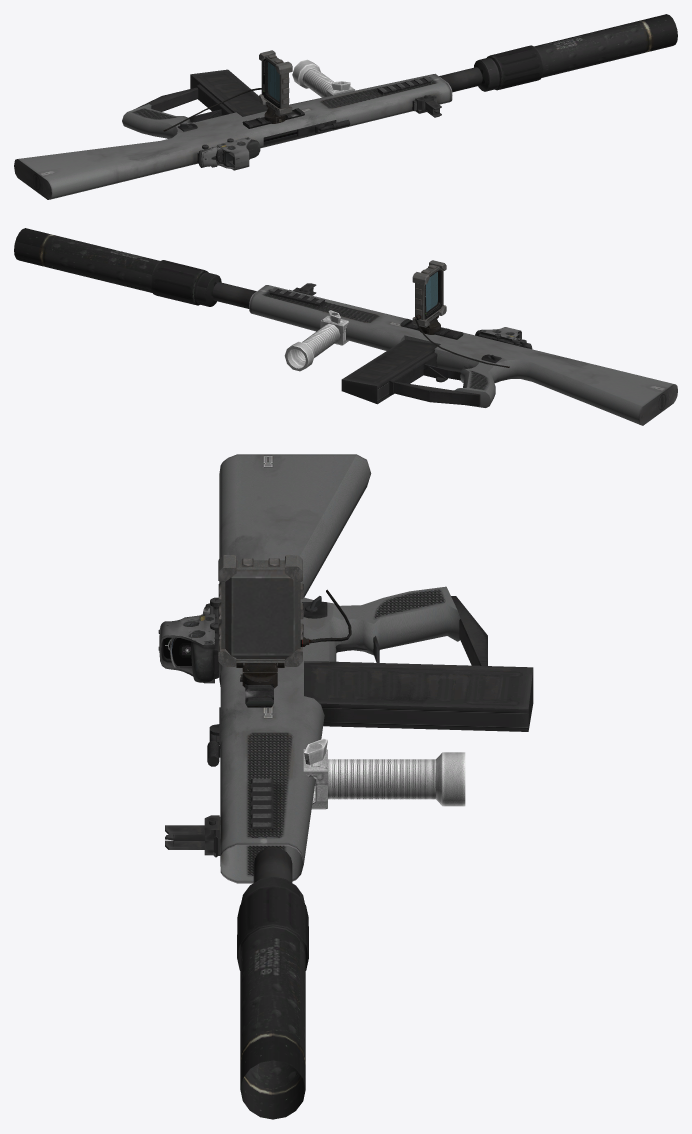
The model's file is viewmodel_aa12_arctic_LOD0.obj.
3 renders of one model, top to bottom at view 1: azimuth 30°, elevation 25°; view 2: azimuth 150°, elevation 25°; view 3: azimuth 270°, elevation 25°, orthographic. The views are drawn at different scales.
Parts seen in each view (by area): view 1: mtl_weapon_aa12_2_arctic, mtl_weapon_suppressor_b, mtl_weapon_motion_tracker_arctic, mtl_weapon_scar_h_foregrip, mtl_weapon_eotech_2_arctic, mtl_weapon_red_dot_sight_arctic, mtl_motion_tracker_screen; view 2: mtl_weapon_aa12_2_arctic, mtl_weapon_suppressor_b, mtl_weapon_motion_tracker_arctic, mtl_weapon_scar_h_foregrip, mtl_weapon_eotech_2_arctic, mtl_motion_tracker_screen; view 3: mtl_weapon_aa12_2_arctic, mtl_weapon_suppressor_b, mtl_weapon_motion_tracker_arctic, mtl_weapon_scar_h_foregrip, mtl_weapon_eotech_2_arctic.
Part boxes in pixels (left/top/right/bottom): mtl_weapon_aa12_2_arctic: left=14, top=67, right=482, bottom=199; mtl_weapon_suppressor_b: left=474, top=14, right=677, bottom=91; mtl_weapon_motion_tracker_arctic: left=163, top=50, right=304, bottom=131; mtl_weapon_scar_h_foregrip: left=292, top=59, right=355, bottom=97; mtl_weapon_eotech_2_arctic: left=217, top=137, right=260, bottom=170; mtl_weapon_red_dot_sight_arctic: left=198, top=138, right=233, bottom=167; mtl_motion_tracker_screen: left=268, top=62, right=279, bottom=101; mtl_weapon_aa12_2_arctic: left=212, top=282, right=677, bottom=425; mtl_weapon_suppressor_b: left=14, top=228, right=221, bottom=306; mtl_weapon_motion_tracker_arctic: left=400, top=260, right=509, bottom=367; mtl_weapon_scar_h_foregrip: left=284, top=310, right=349, bottom=371; mtl_weapon_eotech_2_arctic: left=475, top=327, right=521, bottom=342; mtl_motion_tracker_screen: left=426, top=272, right=437, bottom=311; mtl_weapon_aa12_2_arctic: left=158, top=454, right=533, bottom=883; mtl_weapon_suppressor_b: left=237, top=877, right=308, bottom=1119; mtl_weapon_motion_tracker_arctic: left=218, top=555, right=351, bottom=707; mtl_weapon_scar_h_foregrip: left=303, top=738, right=465, bottom=809; mtl_weapon_eotech_2_arctic: left=159, top=614, right=219, bottom=683.
Size of the model in its own units: 139 by 18.29 by 35.65.
